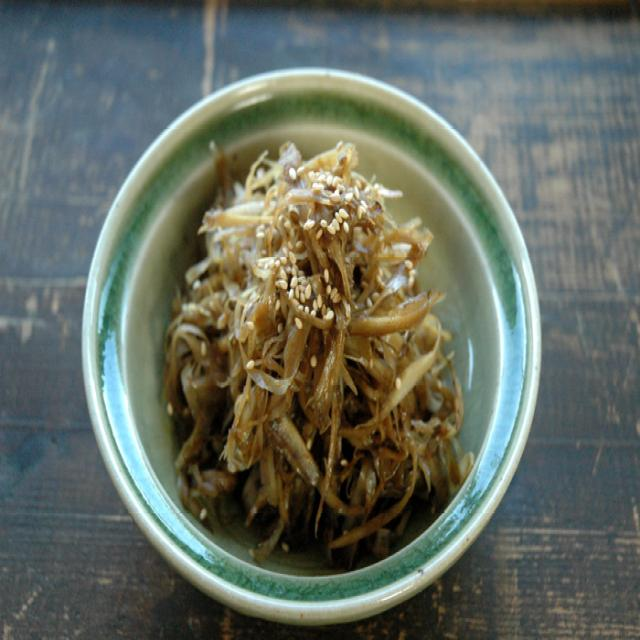蔬菜料理: (162, 158, 462, 532)
